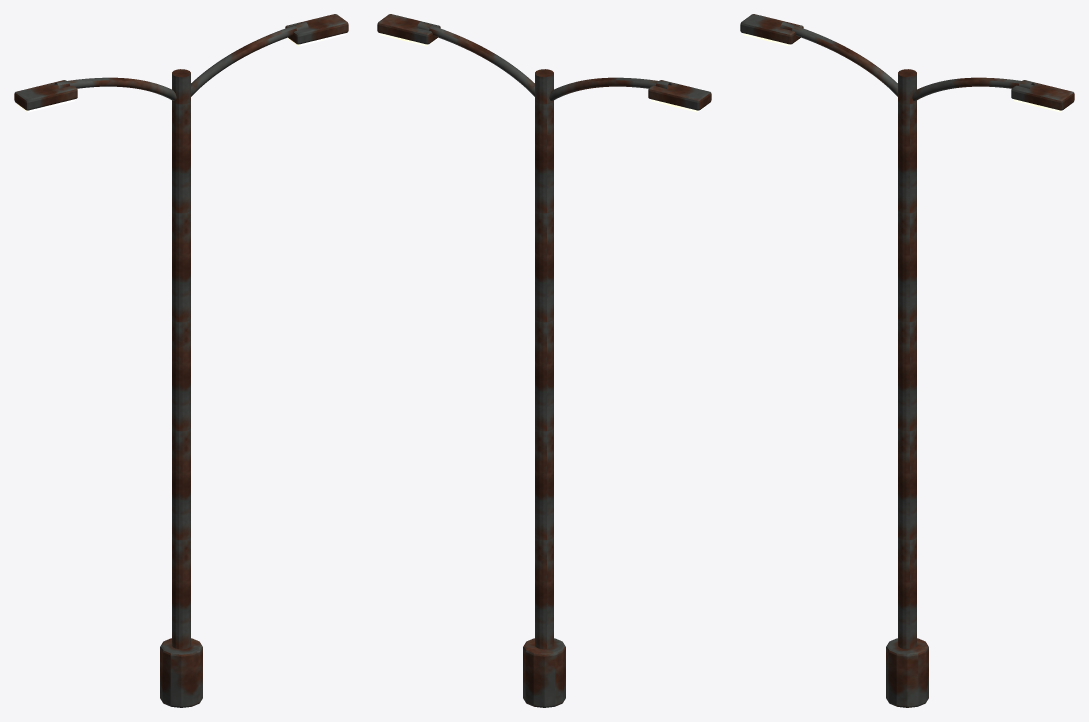
File: ST10_DoubleStreetlight.glb
The picture shows the model from 3 angles, left to right: view 1: azimuth 30°, elevation 25°; view 2: azimuth 150°, elevation 25°; view 3: azimuth 330°, elevation 25°; orthographic projection.
Visible parts, largest first — view 1: ST10_DoubleStreetlight; view 2: ST10_DoubleStreetlight; view 3: ST10_DoubleStreetlight.
Part boxes in pixels (bbox=[...]): ST10_DoubleStreetlight: bbox=[14, 14, 348, 707]; ST10_DoubleStreetlight: bbox=[377, 14, 711, 707]; ST10_DoubleStreetlight: bbox=[740, 14, 1074, 707].
Bounding box in the file's own units: 3.13 × 6 × 0.3636.
Materials: 2 (2 with a texture image).
